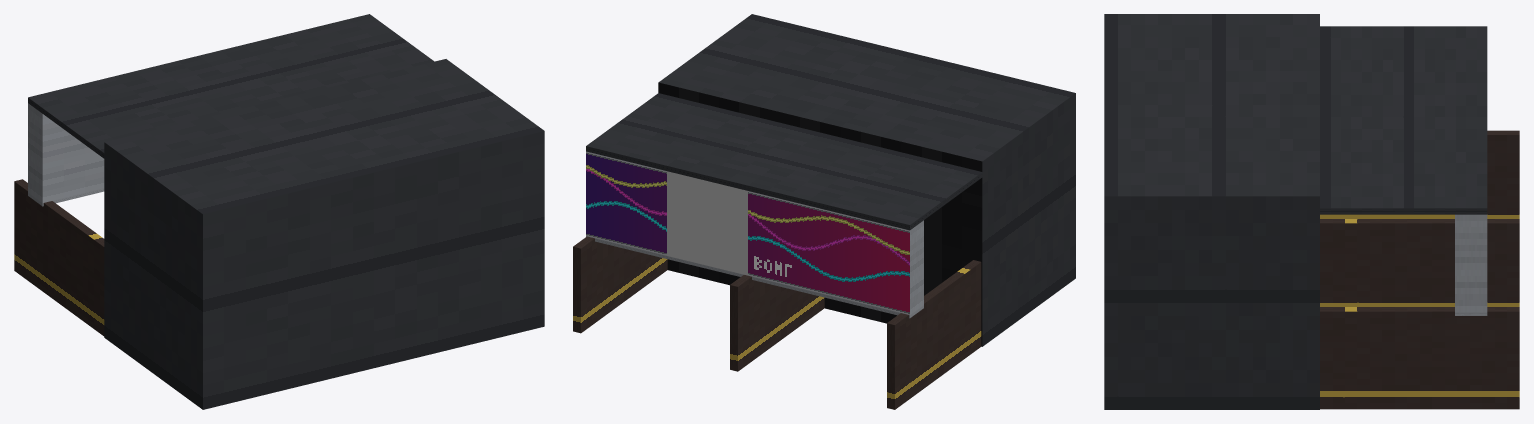
File: pinsetter_3.obj
3 renders of one model, left to right at view 1: azimuth 30°, elevation 25°; view 2: azimuth 150°, elevation 25°; view 3: azimuth 270°, elevation 25°, orthographic. The views are drawn at different scales.
Visible parts, largest first — view 1: pinsetter_3; view 2: pinsetter_3; view 3: pinsetter_3.
Boxes of the visible parts, box(x1,y1,x2,y2) form: pinsetter_3: box(14, 14, 544, 409); pinsetter_3: box(573, 14, 1075, 409); pinsetter_3: box(1104, 14, 1519, 409).
Size of the model in its own units: 4 by 2.19 by 3.85.
